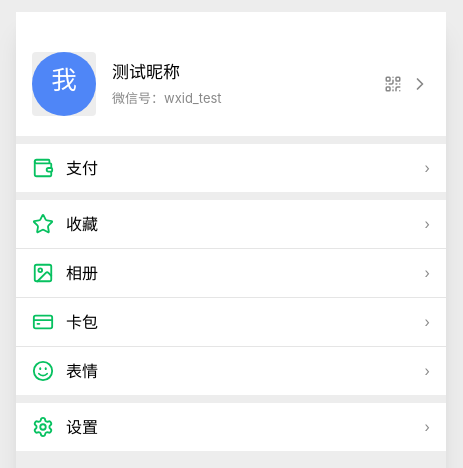
Test: 「我」页面 › 点击收藏弹出演示 Toast
Click the button with test id "me-entry-favorites" at (82, 224), box [16,200,446,248]
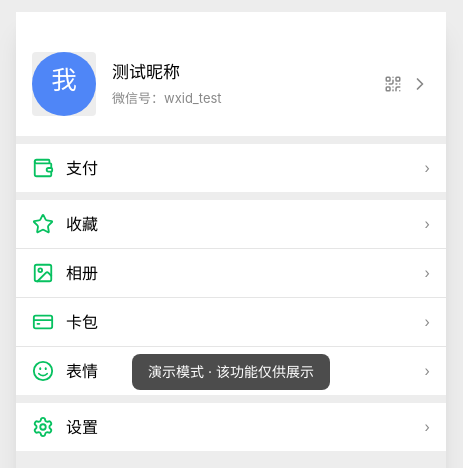
Expected: the text "演示模式 · 该功能仅供展示" is shown, [132,354,330,390]
